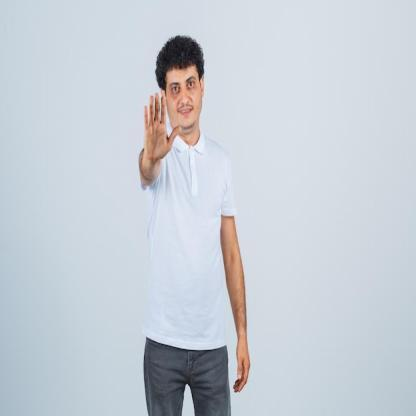stop: (140, 88, 183, 169)
